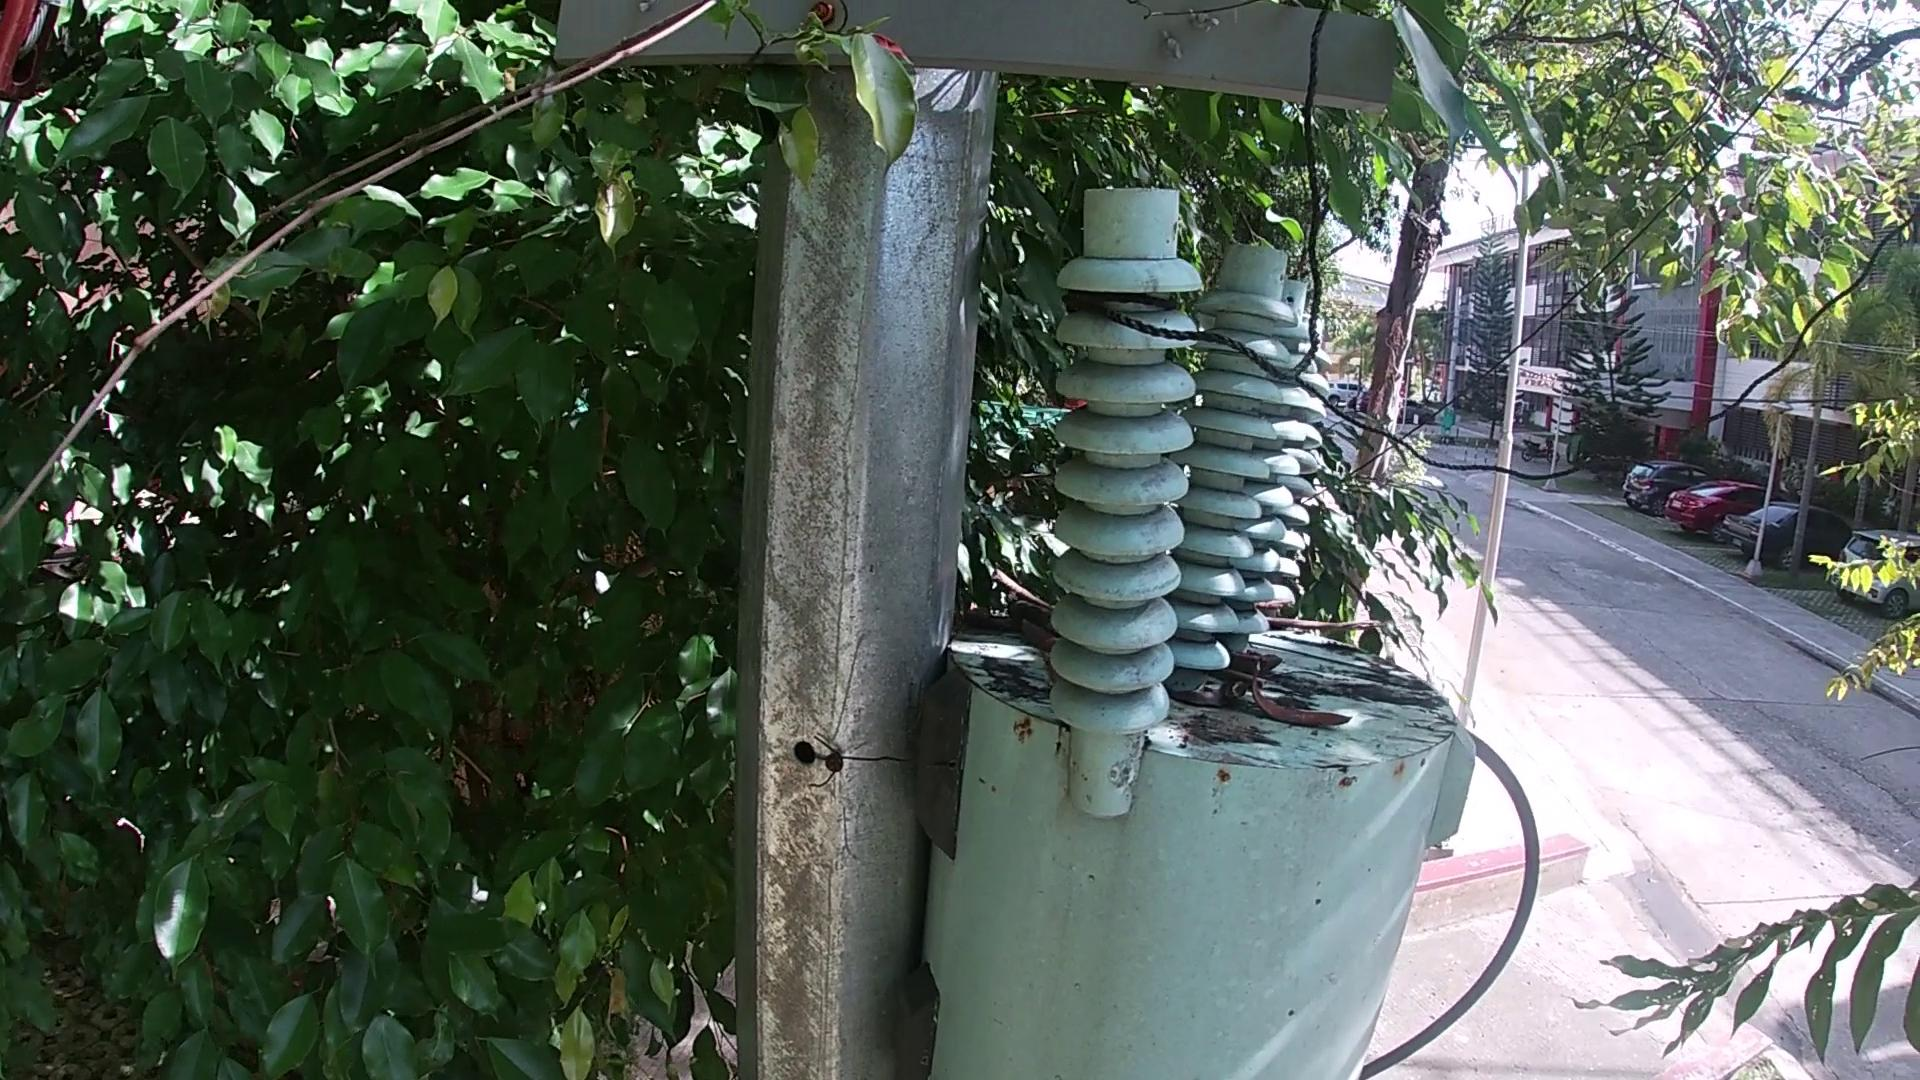leaf: (1175, 688, 1220, 712)
mahogany fruit: (1259, 696, 1346, 745), (1230, 651, 1302, 675)
tree branch: (3, 1, 727, 530), (1265, 618, 1400, 642), (1004, 597, 1054, 641), (994, 567, 1048, 601)
